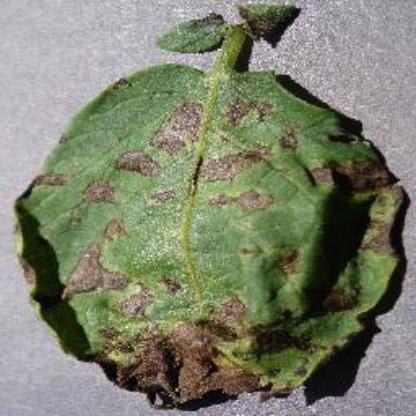Early-Blight: (12, 0, 416, 414)
